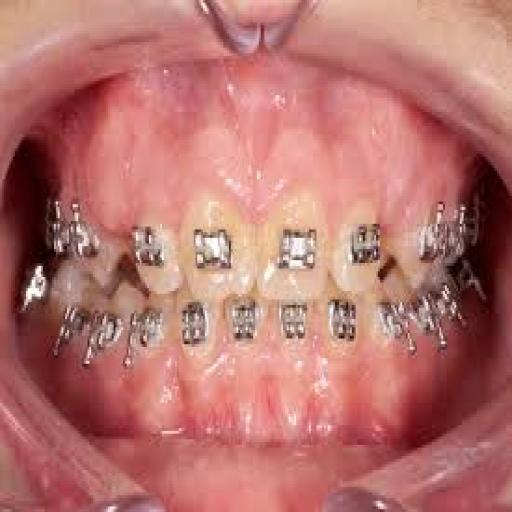correct_brace: (272, 213, 322, 283), (344, 212, 381, 274), (189, 221, 231, 273), (132, 223, 168, 278)
incorrect_brace: (331, 200, 385, 290), (131, 211, 180, 296)
